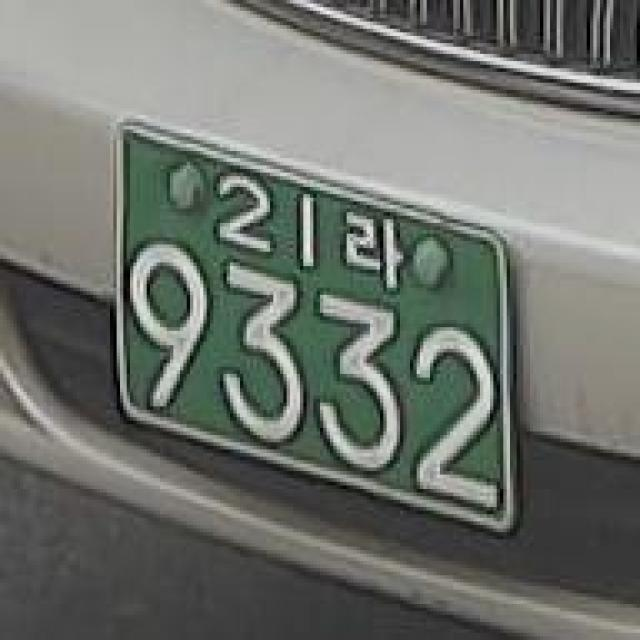illegal_plate: (87, 106, 540, 550)
